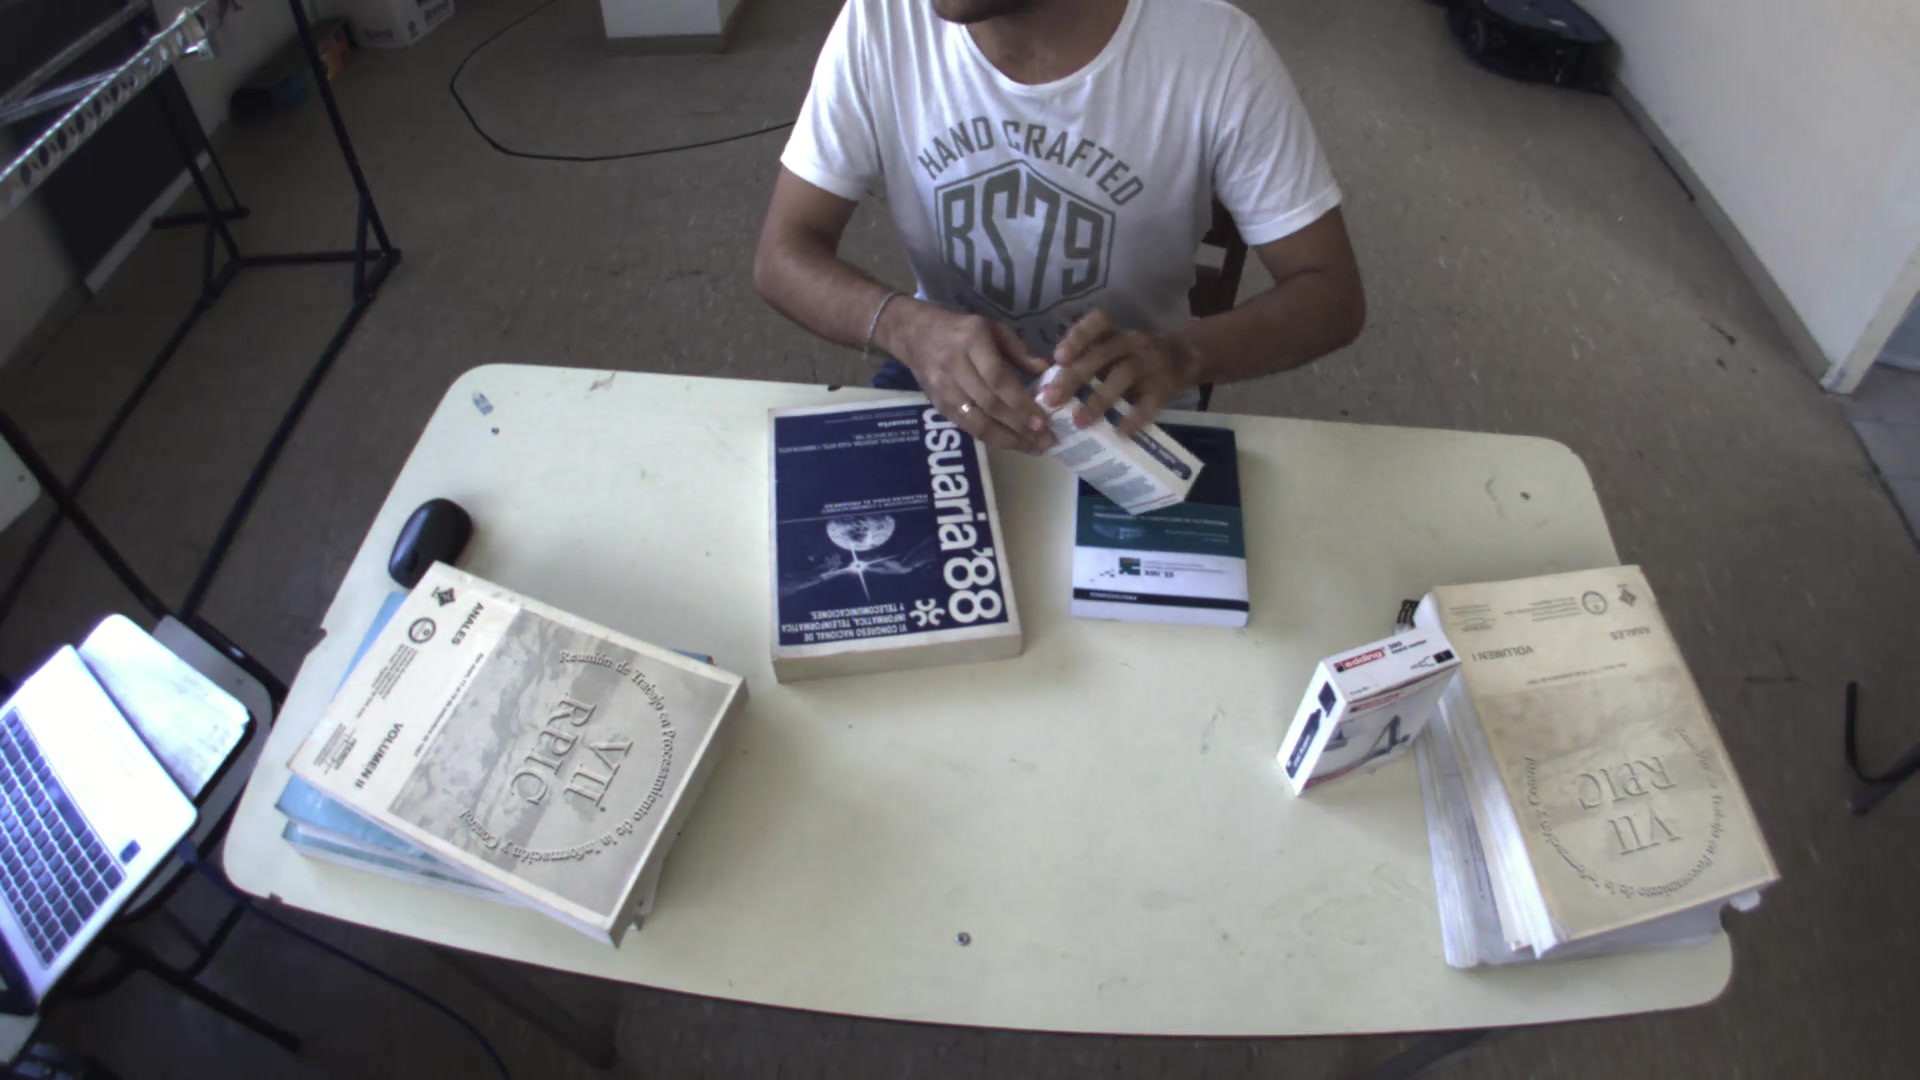hand: (887, 291, 1058, 458), (1046, 298, 1212, 433)
